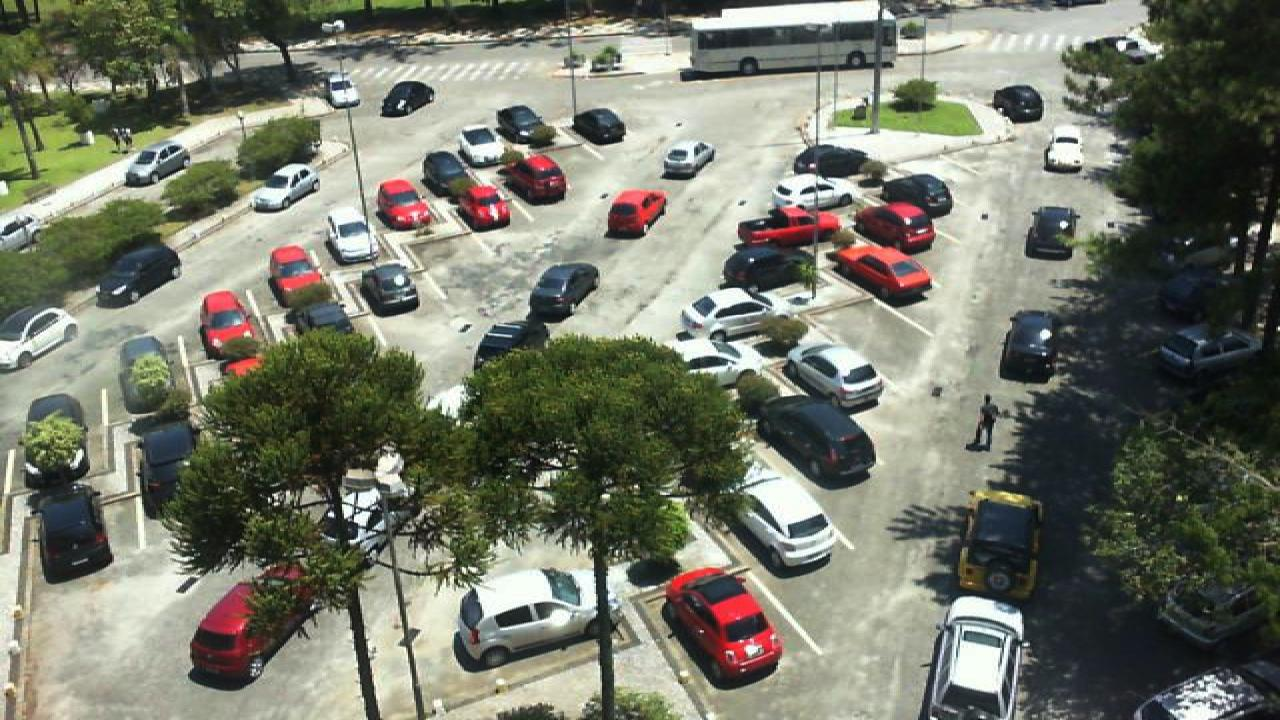Car: (190, 562, 324, 688), (454, 568, 604, 671), (662, 568, 782, 689), (718, 459, 838, 571), (922, 595, 1026, 720), (756, 394, 876, 487), (956, 489, 1044, 600), (30, 484, 112, 582), (1132, 668, 1280, 720), (1152, 323, 1264, 386), (16, 394, 90, 487), (824, 243, 934, 304), (792, 343, 886, 411), (674, 286, 788, 338), (96, 242, 180, 307), (122, 335, 192, 411), (670, 335, 768, 389), (0, 305, 78, 370), (734, 204, 846, 248), (136, 423, 200, 499), (852, 202, 936, 255), (528, 262, 602, 322), (718, 246, 816, 290), (1002, 310, 1058, 384), (198, 290, 256, 354), (474, 322, 548, 372), (876, 172, 954, 218), (268, 244, 332, 298), (252, 162, 320, 210), (504, 154, 568, 204), (772, 174, 856, 212), (454, 180, 512, 233), (326, 206, 378, 265), (374, 180, 434, 231), (362, 263, 420, 314), (124, 142, 194, 184), (1024, 205, 1078, 259), (608, 189, 668, 237), (792, 143, 866, 179), (420, 150, 476, 197), (568, 107, 628, 145), (458, 124, 512, 166), (496, 106, 552, 144), (992, 84, 1044, 124), (380, 80, 436, 117), (664, 141, 716, 179), (1042, 135, 1084, 173), (324, 71, 362, 109)
